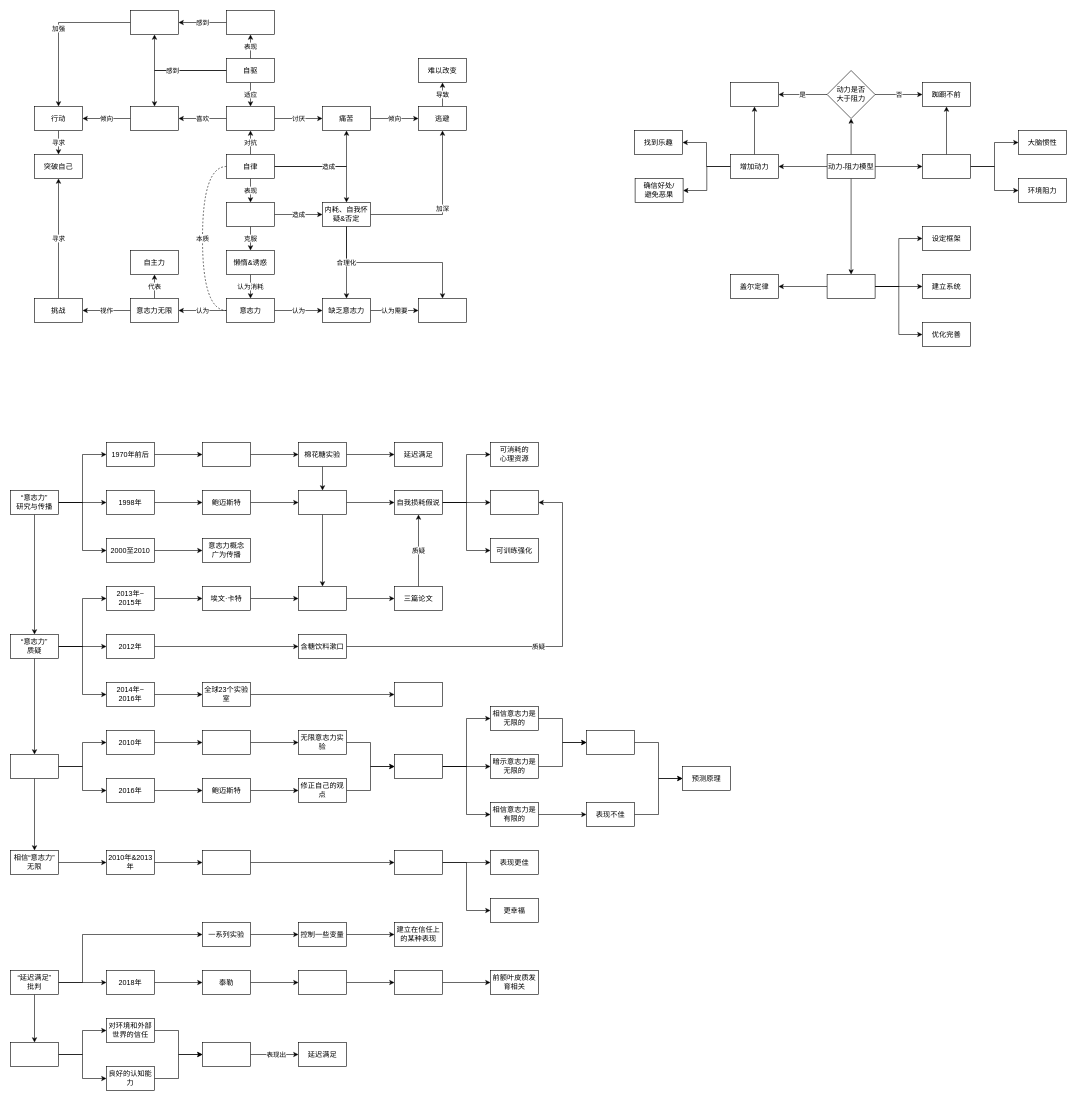
The diagram is 1077 pixels wide and 1101 high, and some of its shapes have lost their labels. Here are the shapes that lost their labels. From the top down, the centre of each, then its label:
At (x=154, y=22): "快感、愉悦感&成就感".
At (x=250, y=22): "因势利导".
At (x=754, y=94): "充满激情".
At (x=154, y=118): "乐趣".
At (x=250, y=118): "本能".
At (x=946, y=166): "减少阻力".
At (x=250, y=214): "强行去做".
At (x=850, y=286): "系统优化法".
At (x=442, y=310): "锻炼意志力".
At (x=226, y=454): "沃尔特·米歇尔博士".
At (x=322, y=502): "意志力实验".
At (x=514, y=502): "生理基础 是糖分".
At (x=322, y=598): "无法复现".
At (x=418, y=694): "自我损耗效应几乎不存在".
At (x=226, y=742): "罗尔·德韦克".
At (x=610, y=742): "表现提升".
At (x=34, y=766): "“意志力” 无限模型".
At (x=418, y=766): "意志力是一种心理暗示".
At (x=226, y=862): "乔布&贝内克".
At (x=418, y=862): "“反向自我损耗”效应".
At (x=322, y=982): "全面审视 棉花糖实验".
At (x=418, y=982): "能力与行为结果几乎无关联".
At (x=34, y=1054): "个人成长".
At (x=226, y=1054): "更好的成就".
